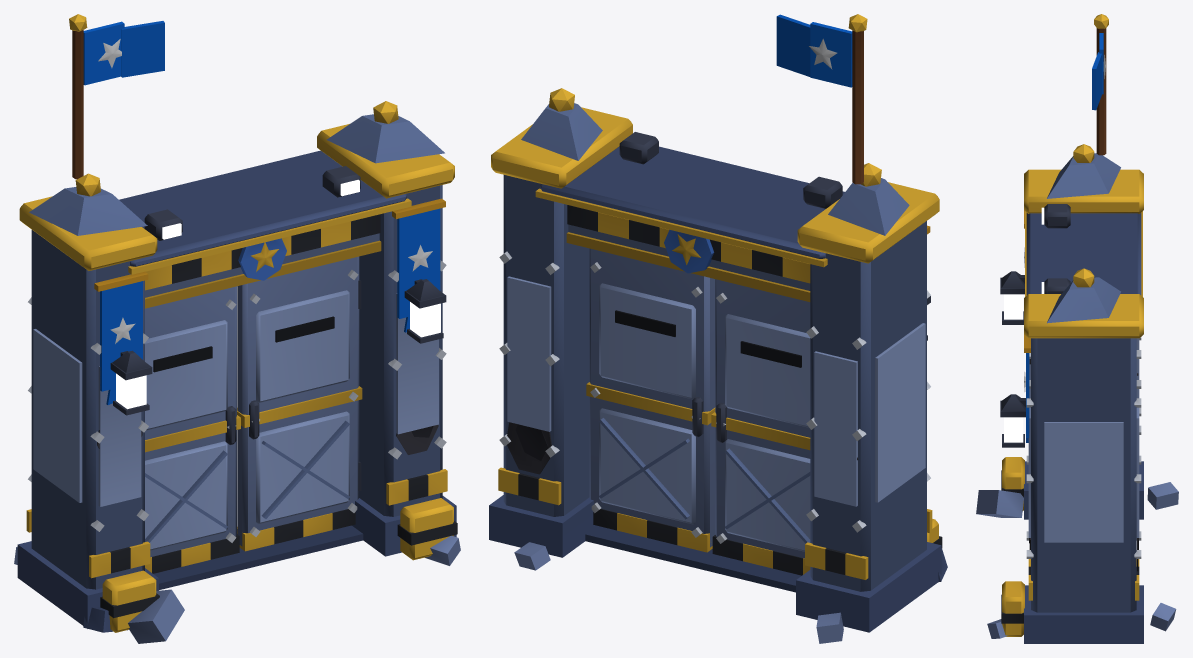
Rendered from b_tor_2.glb.
3 views of the same model, side by side, from view 1: azimuth 30°, elevation 25°; view 2: azimuth 150°, elevation 25°; view 3: azimuth 270°, elevation 25° (orthographic). The views are drawn at different scales.
Parts seen in each view (by area): view 1: body, door_r, door_l, sway_flag, banner_l, banner_r, dmg2_body, dmg1_body, lamp_glow, lamp_closed_glow; view 2: body, door_r, door_l, sway_flag, dmg2_body, dmg1_body; view 3: body, dmg2_body, dmg1_body, sway_flag, lamp_glow, lamp_closed_glow, banner_r.
Boxes of the visible parts, <box> form: body: <box>17,14,457,632</box>; door_r: <box>237,256,362,551</box>; door_l: <box>145,286,240,573</box>; sway_flag: <box>83,21,164,85</box>; banner_l: <box>100,281,142,404</box>; banner_r: <box>397,208,440,332</box>; dmg2_body: <box>83,430,184,643</box>; dmg1_body: <box>14,425,460,565</box>; lamp_glow: <box>162,179,440,337</box>; lamp_closed_glow: <box>116,373,146,409</box>; body: <box>489,14,942,632</box>; door_r: <box>586,248,715,552</box>; door_l: <box>711,279,810,575</box>; sway_flag: <box>776,14,852,87</box>; dmg2_body: <box>507,422,947,582</box>; dmg1_body: <box>816,457,858,643</box>; body: <box>1000,14,1143,643</box>; dmg2_body: <box>976,359,1176,631</box>; dmg1_body: <box>987,373,1178,638</box>; sway_flag: <box>1092,33,1105,110</box>; lamp_glow: <box>1004,207,1044,442</box>; lamp_closed_glow: <box>1004,294,1023,319</box>; banner_r: <box>1024,353,1029,442</box>.
Size of the model in its own units: 4.19 by 6.3 by 2.3.
